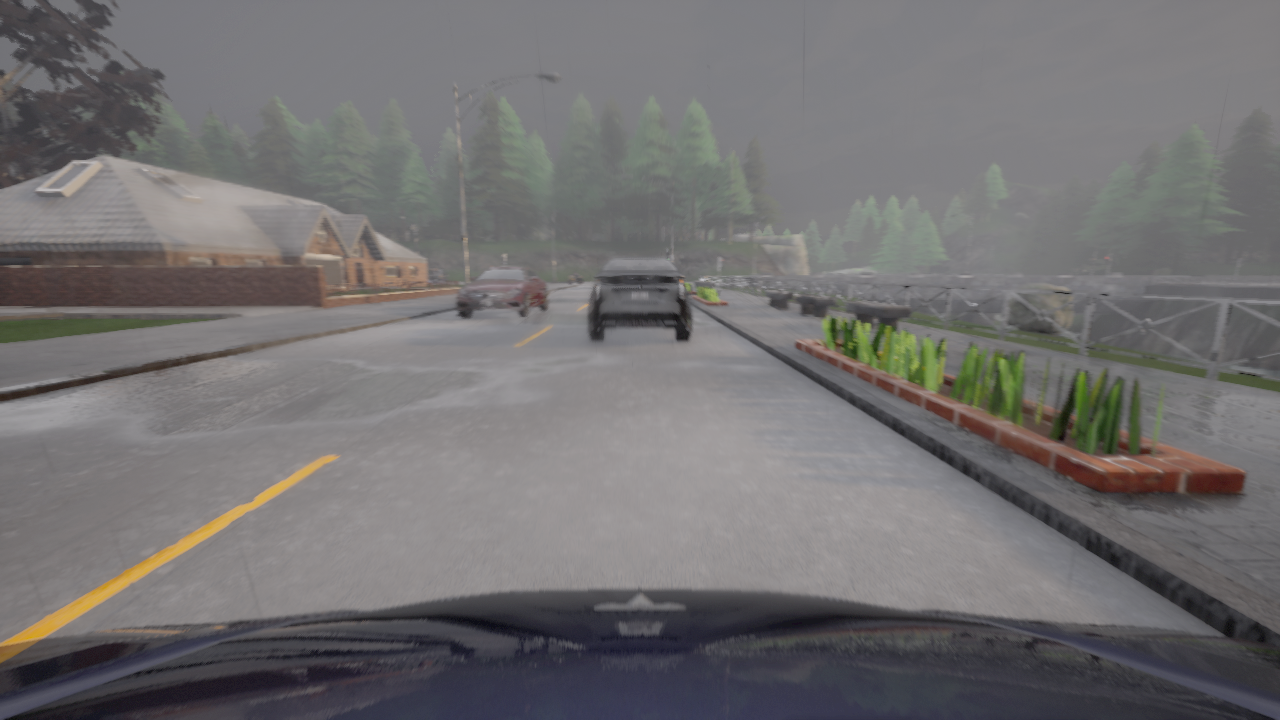cyclist: (0, 588, 1279, 719), (588, 257, 691, 341), (457, 265, 551, 317), (427, 268, 448, 282), (568, 274, 582, 282)
